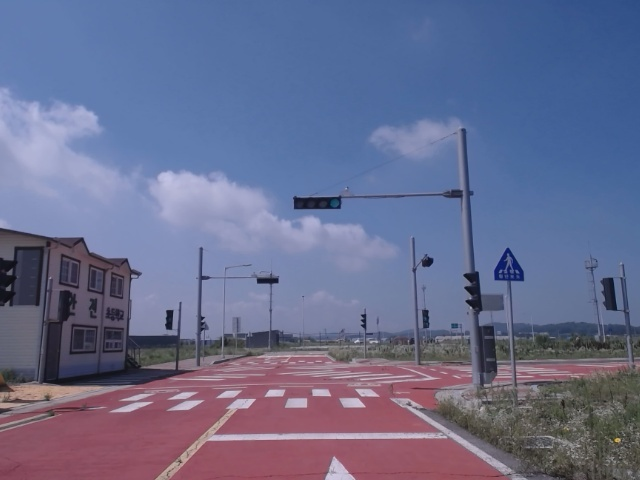straight_green_4: (292, 198, 342, 211)
